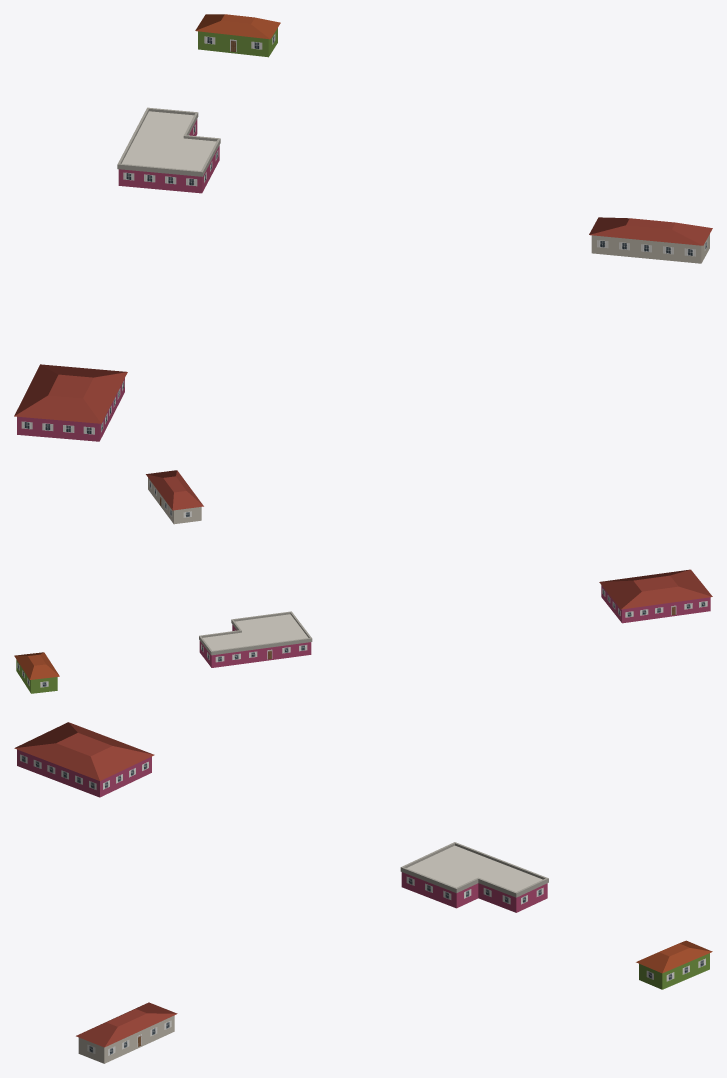
Rendered from msb_palmbeach_m22_m11.glb.
3 renders of one model, top to bottom at view 1: azimuth 30°, elevation 25°; view 2: azimuth 150°, elevation 25°; view 3: azimuth 270°, elevation 25°, orthographic. The views are drawn at different scales.
Visible parts, largest first — view 1: msb_palmbeach_m22_m11_lod0; view 2: msb_palmbeach_m22_m11_lod0; view 3: msb_palmbeach_m22_m11_lod0.
Part boxes in pixels (x1,y1,x2,y2): msb_palmbeach_m22_m11_lod0: (14, 14, 712, 441); msb_palmbeach_m22_m11_lod0: (14, 470, 712, 693); msb_palmbeach_m22_m11_lod0: (14, 722, 712, 1063).
Size of what is drawn, in the model's own units: 137 by 7.91 by 125.
Materials: 3 (1 with a texture image).
